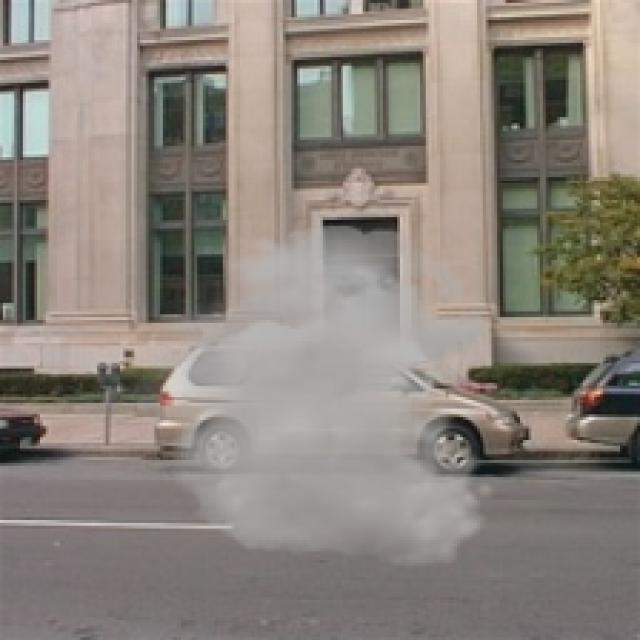smoke: (120, 226, 497, 568)
